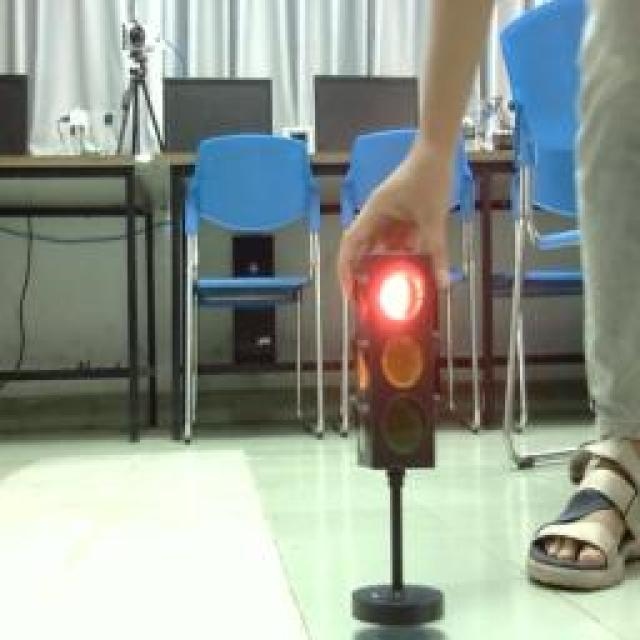-: (379, 261, 429, 323)
